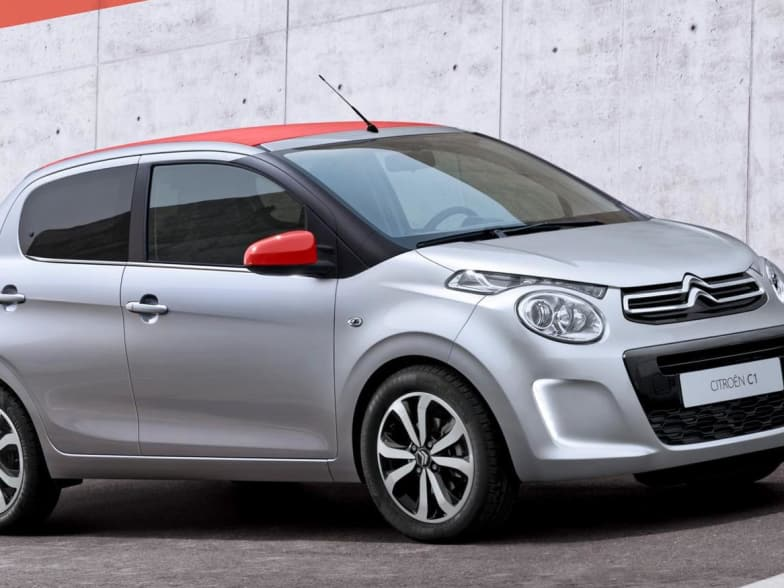Carro: (4, 117, 784, 539)
